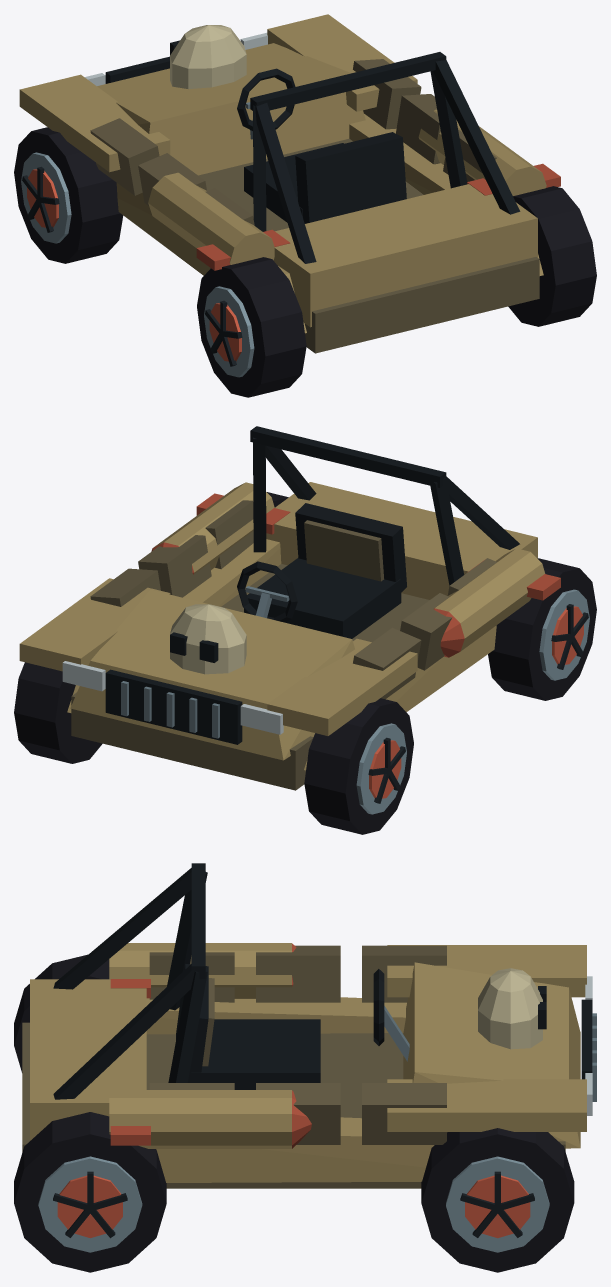
Rendered from kart.glb.
3 views of the same model, one above another, from view 1: azimuth 30°, elevation 25°; view 2: azimuth 150°, elevation 25°; view 3: azimuth 270°, elevation 25° (orthographic). The views are drawn at different scales.
Visible parts, largest first — view 1: identity-jeep-jeep-offroad-frame, wheel-rear-left, wheel-front-left, identity-jeep-driver-cockpit, identity-jeep-motif-rocket, identity-jeep-motif-armor, wheel-rear-right, identity-jeep-motif-skull; view 2: identity-jeep-jeep-offroad-frame, identity-jeep-driver-cockpit, wheel-front-left, identity-jeep-motif-armor, wheel-rear-left, identity-jeep-motif-rocket, wheel-front-right, identity-jeep-motif-skull; view 3: identity-jeep-jeep-offroad-frame, wheel-rear-right, wheel-front-right, identity-jeep-motif-rocket, identity-jeep-motif-armor, identity-jeep-driver-cockpit, identity-jeep-motif-skull, wheel-rear-left.
Boxes of the visible parts, box(x1,y1,x2,y2) form: identity-jeep-jeep-offroad-frame: box(19, 14, 543, 353); wheel-rear-left: box(197, 257, 306, 397); wheel-front-left: box(14, 127, 123, 263); identity-jeep-driver-cockpit: box(237, 68, 406, 223); identity-jeep-motif-rocket: box(148, 109, 560, 270); identity-jeep-motif-armor: box(90, 59, 496, 225); wheel-rear-right: box(508, 186, 596, 326); identity-jeep-motif-skull: box(170, 25, 246, 89); identity-jeep-jeep-offroad-frame: box(19, 426, 537, 790); identity-jeep-driver-cockpit: box(237, 503, 406, 638); wheel-front-left: box(304, 698, 413, 834); identity-jeep-motif-armor: box(90, 500, 496, 699); wheel-rear-left: box(488, 558, 596, 700); identity-jeep-motif-rocket: box(151, 482, 560, 657); wheel-front-right: box(14, 662, 102, 763); identity-jeep-motif-skull: box(170, 604, 246, 674); identity-jeep-jeep-offroad-frame: box(22, 863, 596, 1188); wheel-rear-right: box(14, 1112, 166, 1272); wheel-front-right: box(421, 1128, 574, 1272); identity-jeep-motif-rocket: box(109, 943, 311, 1148); identity-jeep-motif-armor: box(149, 945, 446, 1144); identity-jeep-driver-cockpit: box(176, 964, 409, 1089); identity-jeep-motif-skull: box(478, 968, 546, 1049); wheel-rear-left: box(14, 954, 109, 1072).
Bounding box in the file's own units: 2.13 × 1.39 × 2.75.
